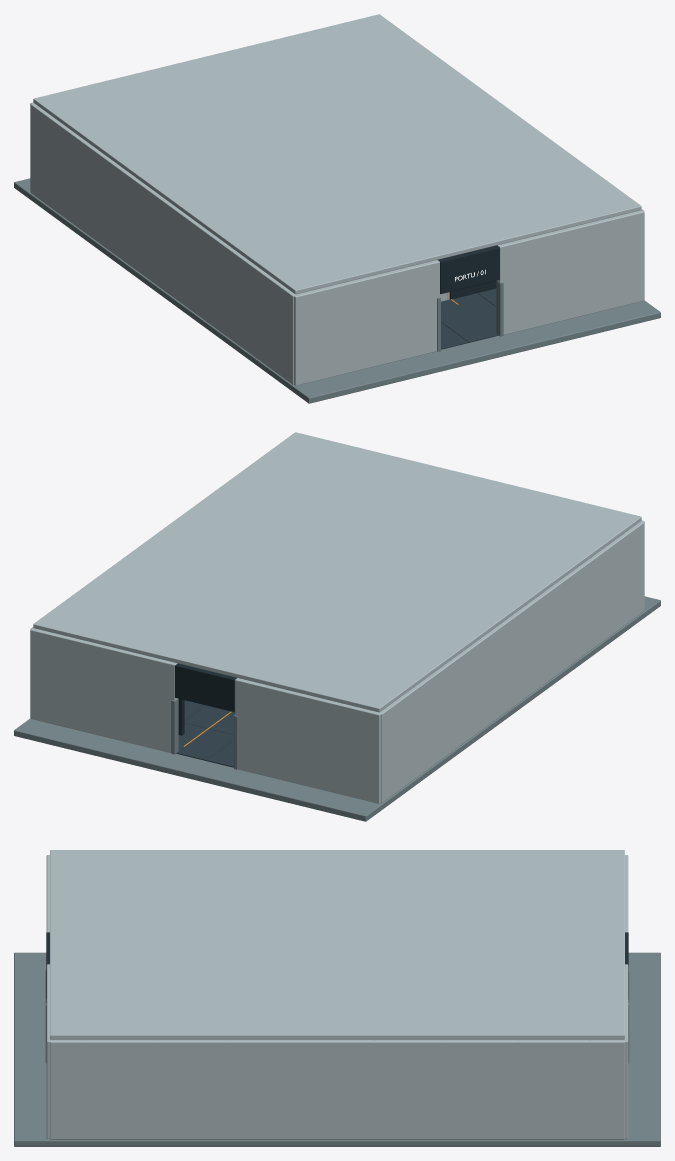
Rendered from communications_hub.glb.
3 views of the same model, one above another, from view 1: azimuth 30°, elevation 25°; view 2: azimuth 150°, elevation 25°; view 3: azimuth 270°, elevation 25° (orthographic). The views are drawn at different scales.
Visible parts, largest first — view 1: roof_cutaway_mesh, front_cutaway_mesh, structure_mesh, floor_tiles_mesh; view 2: roof_cutaway_mesh, structure_mesh, floor_tiles_mesh; view 3: roof_cutaway_mesh, structure_mesh, floor_tiles_mesh, front_cutaway_mesh.
Boxes of the visible parts, box(x1,y1,x2,y2) form: roof_cutaway_mesh: box(33, 14, 641, 294); front_cutaway_mesh: box(294, 210, 644, 385); structure_mesh: box(30, 102, 644, 384); floor_tiles_mesh: box(14, 178, 660, 403); roof_cutaway_mesh: box(33, 432, 641, 712); structure_mesh: box(30, 522, 644, 803); floor_tiles_mesh: box(14, 596, 660, 821); roof_cutaway_mesh: box(50, 850, 624, 1039); structure_mesh: box(50, 855, 629, 1139); floor_tiles_mesh: box(14, 952, 660, 1146); front_cutaway_mesh: box(45, 855, 52, 1138).
Bounding box in the file's own units: 24.8 × 6.78 × 36.
